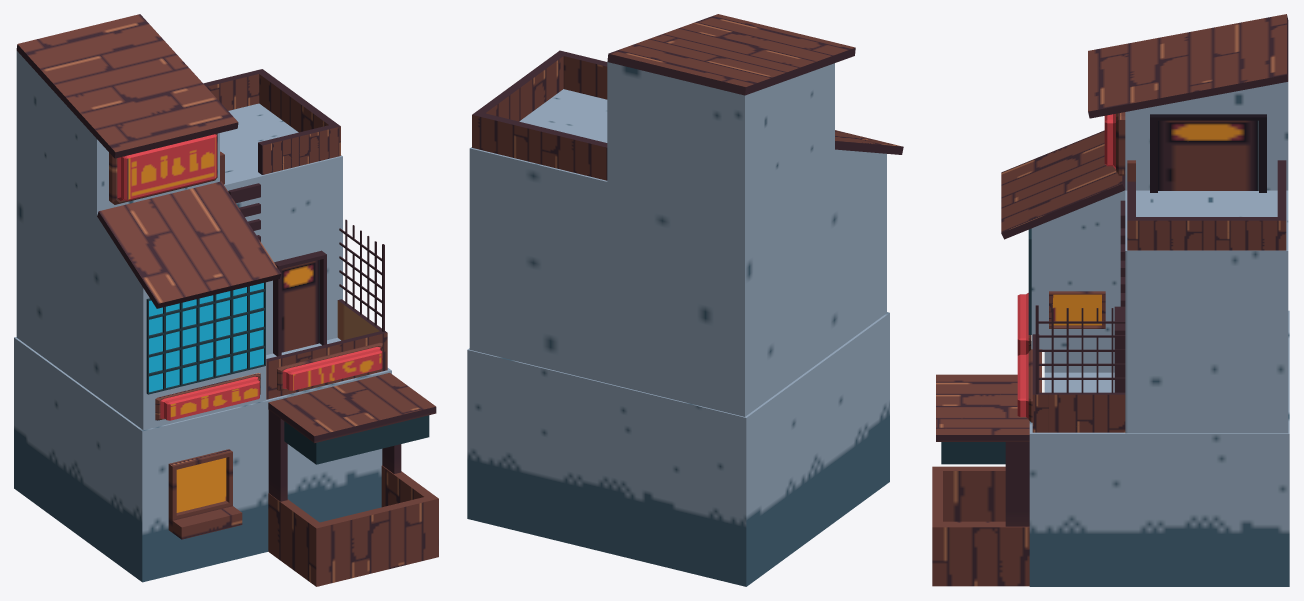
The model's file is Casa com Janelao.v1.2108.Anibal.fbx.
3 views of the same model, side by side, from view 1: azimuth 30°, elevation 25°; view 2: azimuth 150°, elevation 25°; view 3: azimuth 270°, elevation 25° (orthographic). The views are drawn at different scales.
Visible parts, largest first — view 1: Casa com Janelao; view 2: Casa com Janelao; view 3: Casa com Janelao.
Boxes of the visible parts, x1=… form: Casa com Janelao: x1=14, y1=14, x2=438, y2=586; Casa com Janelao: x1=467, y1=14, x2=903, y2=586; Casa com Janelao: x1=932, y1=14, x2=1289, y2=586.
Bounding box in the file's own units: 643 × 788 × 1096.
